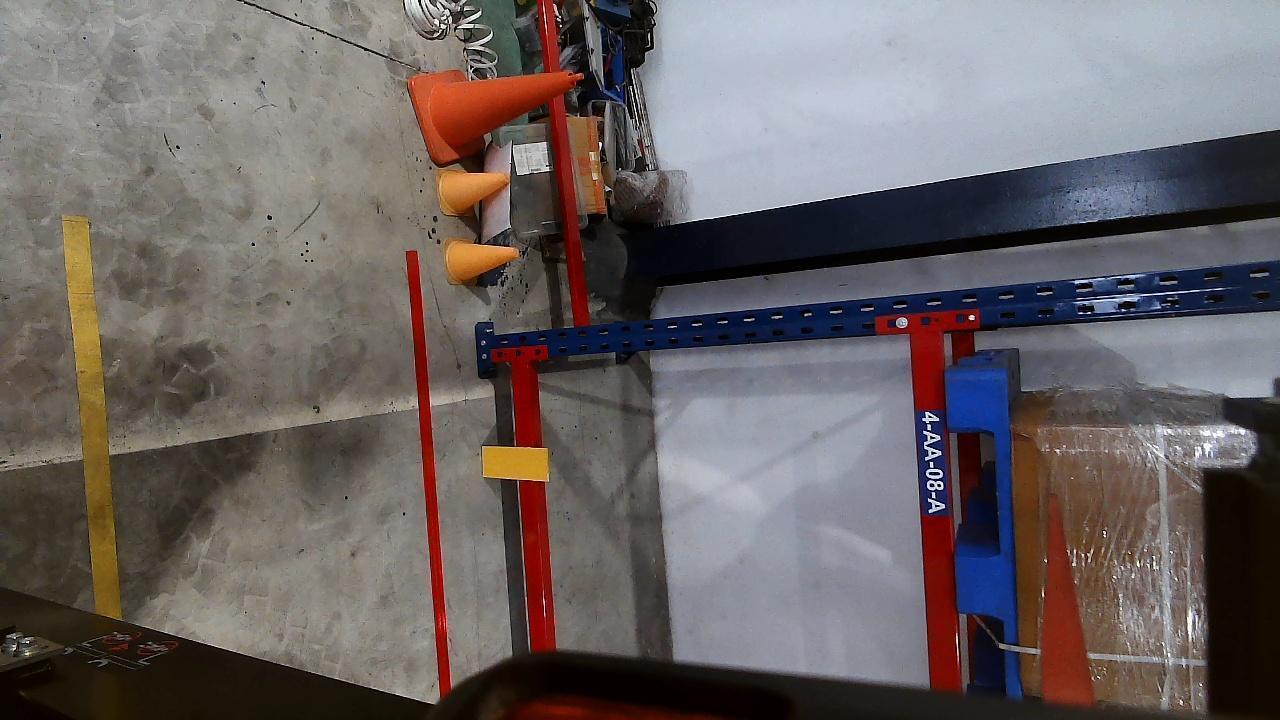red_line: (407, 250, 452, 687)
yellow_line: (58, 214, 119, 617)
